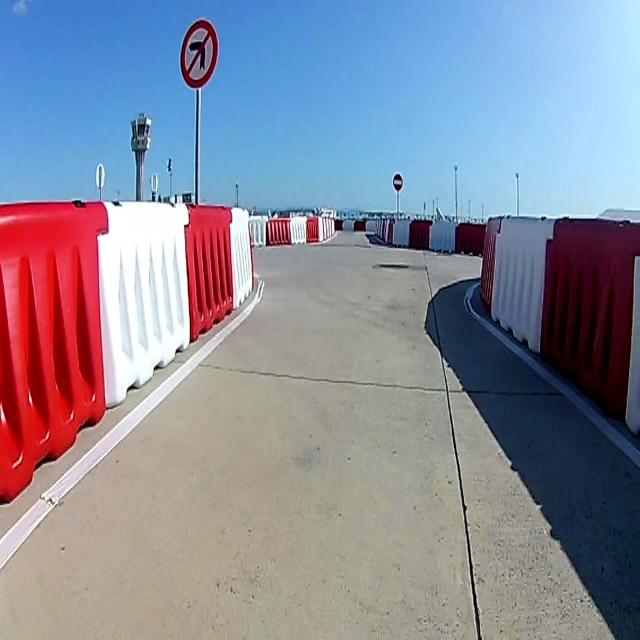girisyok: (393, 173, 403, 190)
soladonulmez: (180, 21, 218, 86)
